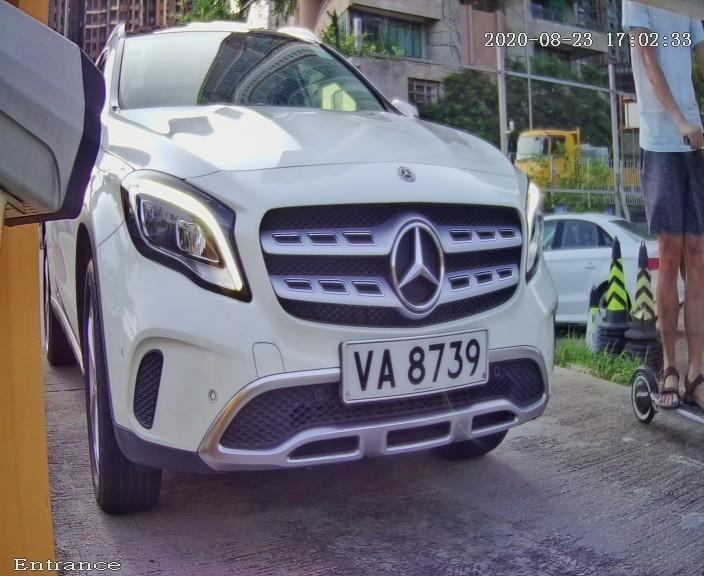Car: (13, 8, 613, 530)
License Plate: (334, 319, 500, 409)
